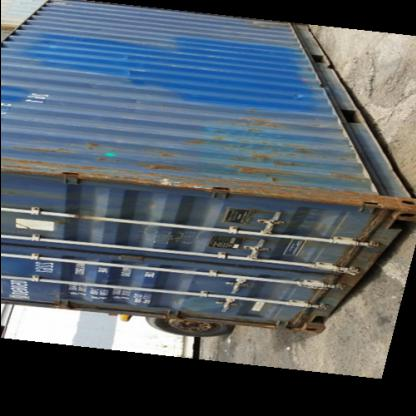Damage: (3, 154, 204, 204), (224, 164, 384, 218), (138, 223, 204, 254), (227, 106, 279, 140), (110, 43, 136, 96), (285, 142, 316, 160)
